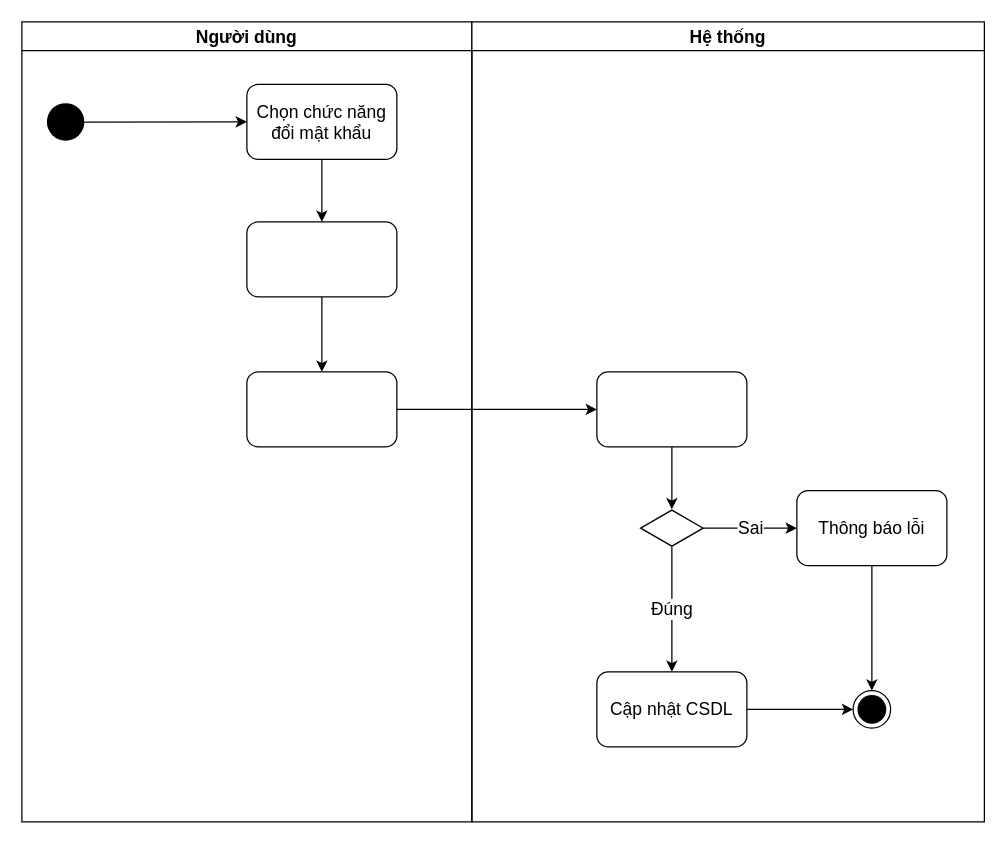
This 1006x844 diagram has some shape labels left out. The centre of each missing label's shape, as x and y in pixels:
Kiểm tra thông tin (tk, mk): point (671, 409)
Nhập thông tin: point (321, 259)
Yêu cầu đổi mật khẩu: point (321, 409)
